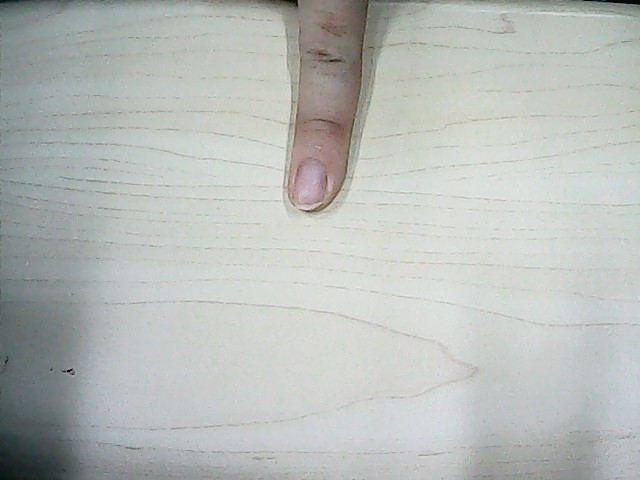nail: (290, 158, 330, 207)
